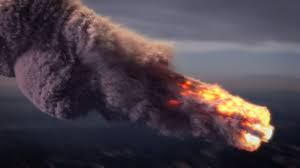smoke: (1, 2, 167, 109)
